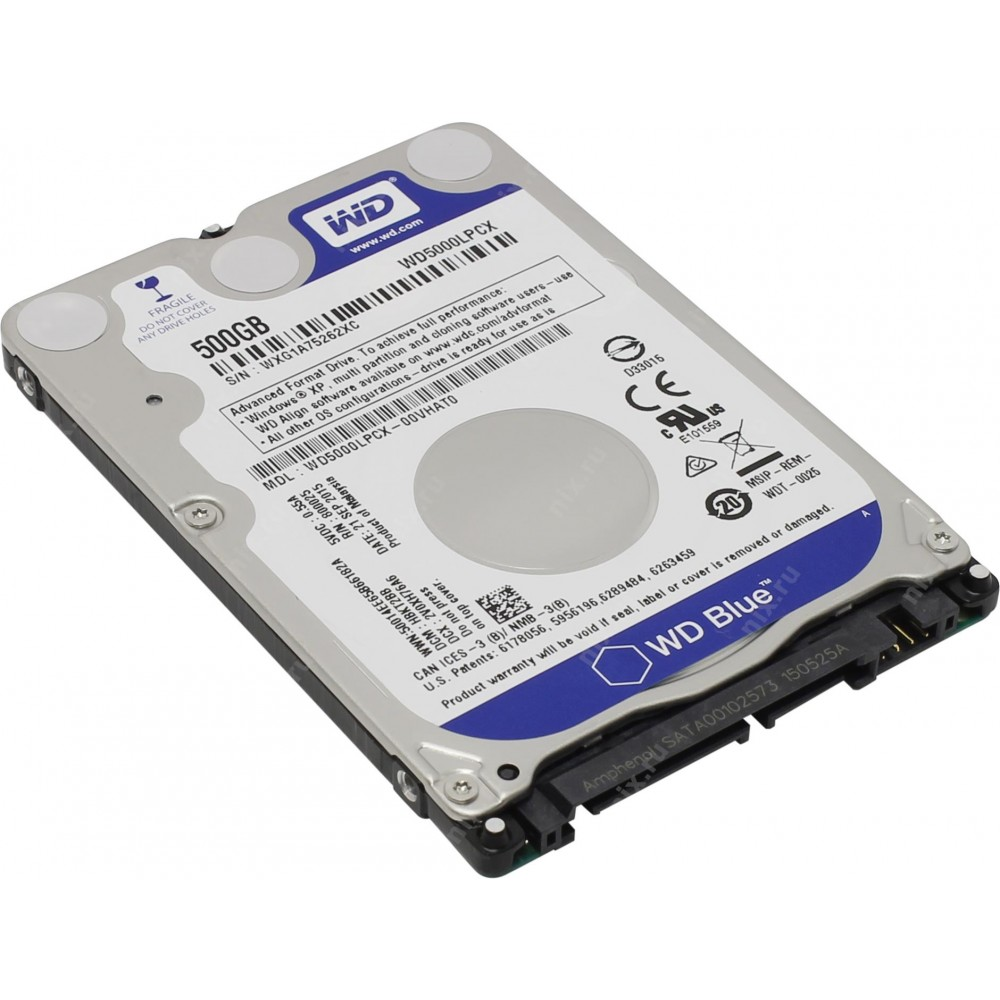2.5" Hard Drive: (3, 92, 1000, 897)
